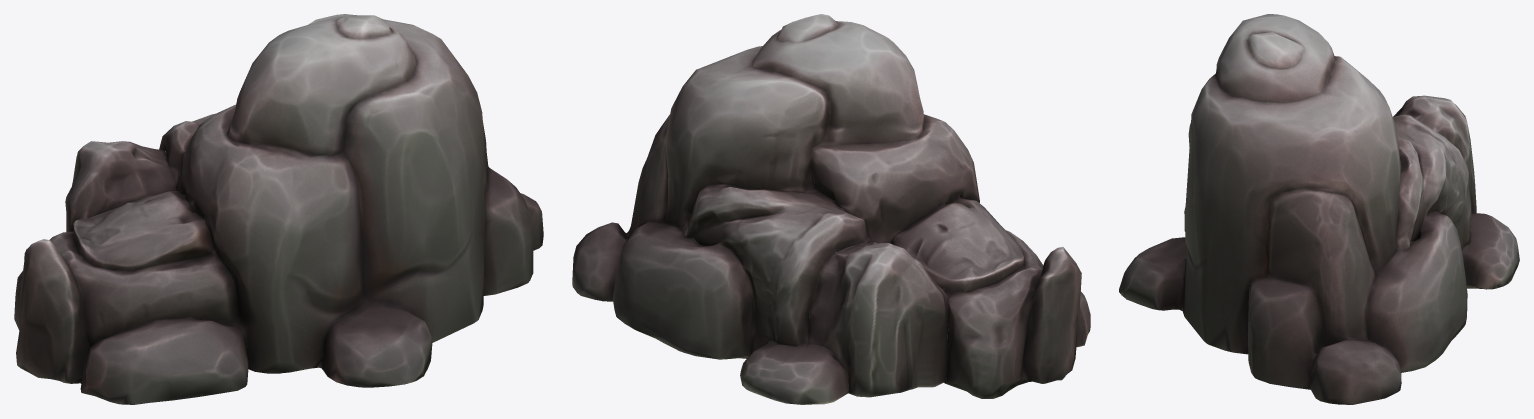
The model's file is rochedo_a.glb.
3 views of the same model, side by side, from view 1: azimuth 30°, elevation 25°; view 2: azimuth 150°, elevation 25°; view 3: azimuth 270°, elevation 25° (orthographic). The views are drawn at different scales.
Visible parts, largest first — view 1: Big_2_BiG_0; view 2: Big_2_BiG_0; view 3: Big_2_BiG_0.
Part boxes in pixels (left/top/right/bottom): Big_2_BiG_0: left=14, top=14, right=543, bottom=404; Big_2_BiG_0: left=572, top=14, right=1090, bottom=404; Big_2_BiG_0: left=1119, top=14, right=1519, bottom=404.
Bounding box in the file's own units: 1.84 × 1 × 1.32.
Materials: 1 (1 with a texture image).
